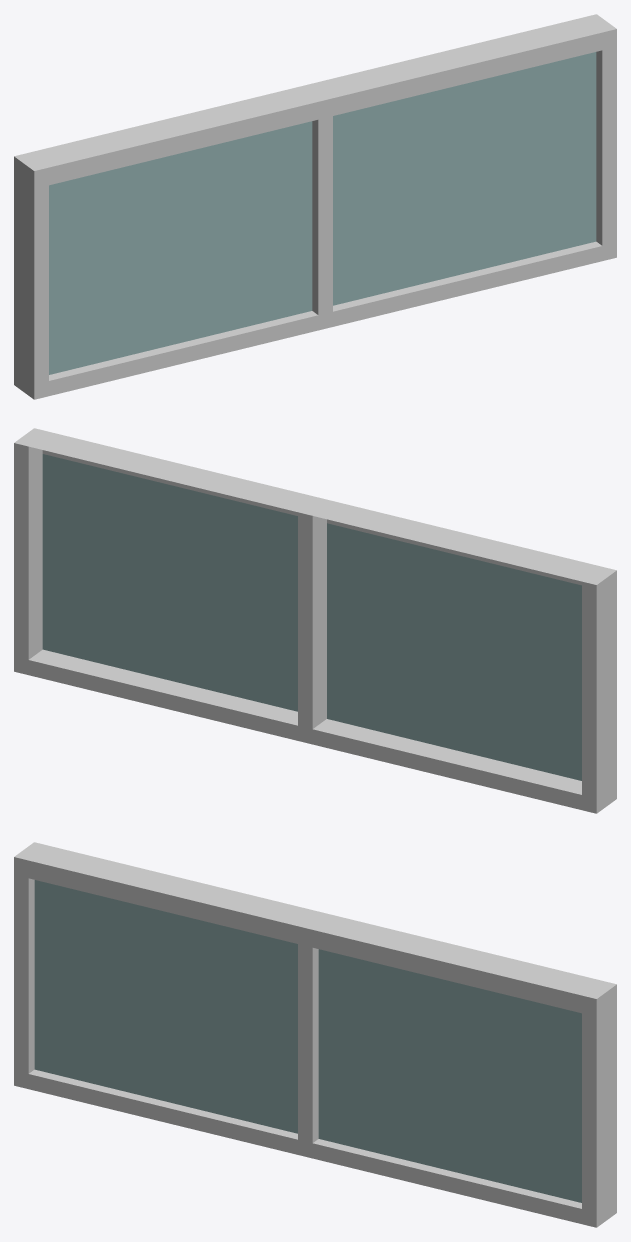
Rendered from Smal_window_level01.fbx.
The picture shows the model from 3 angles, top to bottom: view 1: azimuth 30°, elevation 25°; view 2: azimuth 150°, elevation 25°; view 3: azimuth 330°, elevation 25°; orthographic projection.
Visible parts, largest first — view 1: SmalWindow; view 2: SmalWindow; view 3: SmalWindow.
Boxes of the visible parts, x1,y1,x2,y2 form: SmalWindow: (14, 14, 616, 399); SmalWindow: (14, 428, 616, 813); SmalWindow: (14, 842, 616, 1227).
Size of the model in its own units: 800 by 300 by 48.22.
